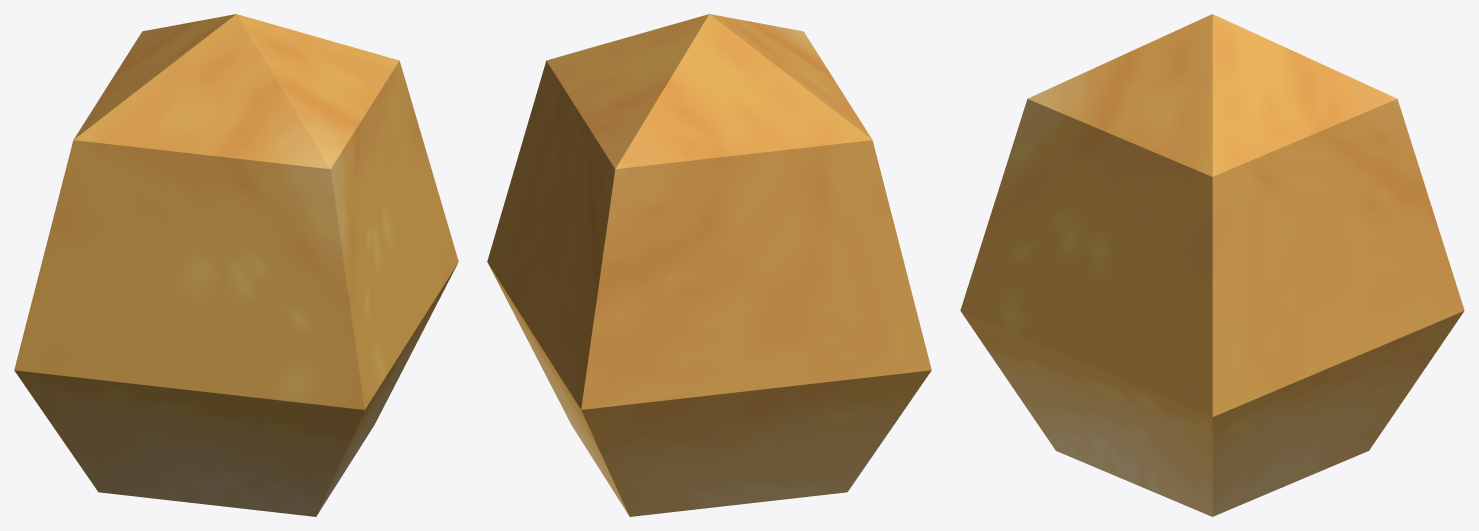
Rendered from spider-egg-unbroken-lod2.glb.
The picture shows the model from 3 angles, left to right: view 1: azimuth 30°, elevation 25°; view 2: azimuth 150°, elevation 25°; view 3: azimuth 270°, elevation 25°; orthographic projection.
Visible parts, largest first — view 1: spider-egg-unbroken-lod2; view 2: spider-egg-unbroken-lod2; view 3: spider-egg-unbroken-lod2.
Part boxes in pixels (x1,y1,x2,y2): spider-egg-unbroken-lod2: (14, 14, 458, 516); spider-egg-unbroken-lod2: (487, 14, 931, 516); spider-egg-unbroken-lod2: (960, 14, 1464, 516).
Size of the model in its own units: 3.88 by 3.98 by 3.88.
1 material, 1 textured.
